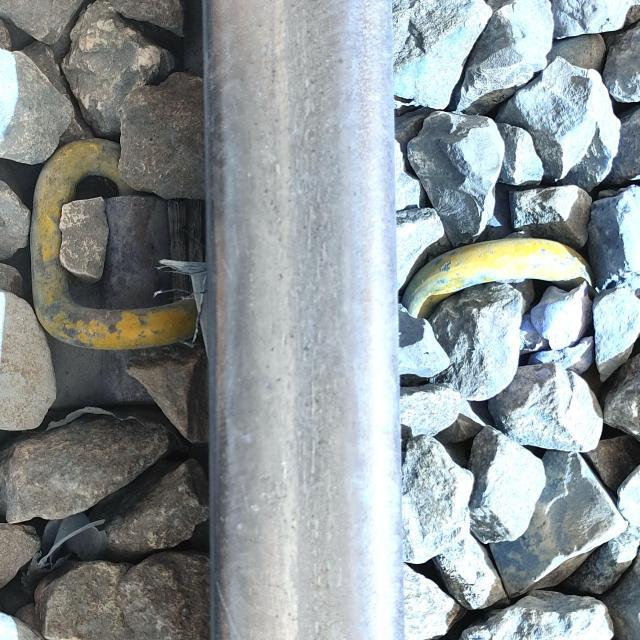Good Fasteners: (21, 130, 214, 396), (403, 237, 591, 319)
